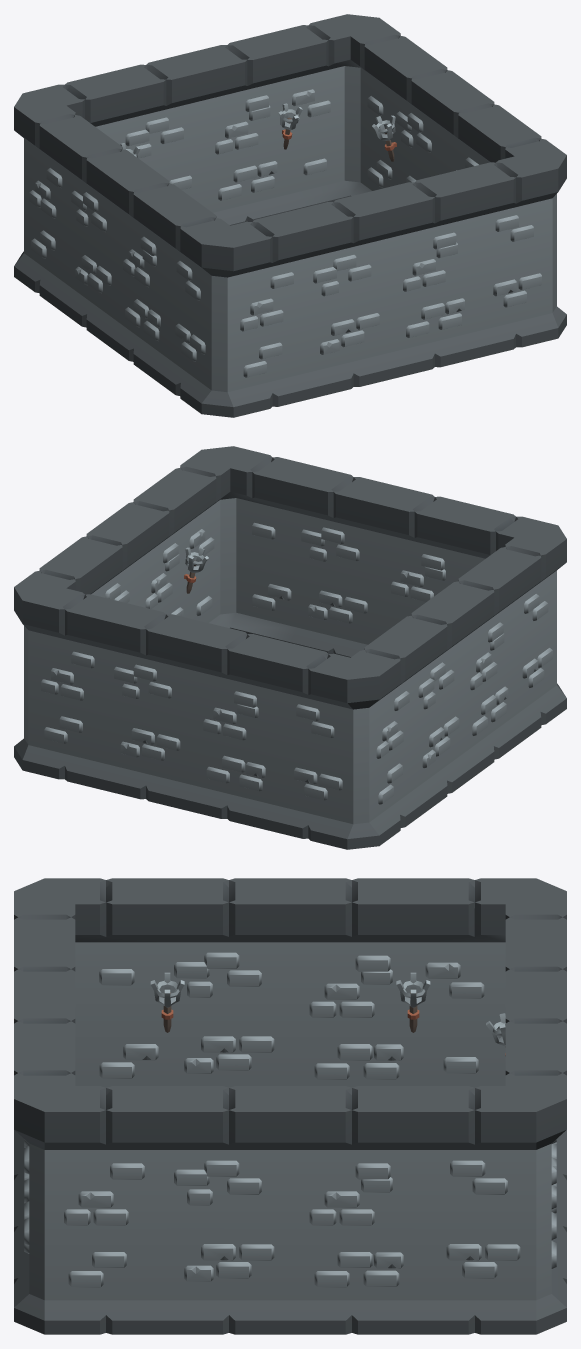
The model's file is modular_room.gltf.
3 views of the same model, one above another, from view 1: azimuth 30°, elevation 25°; view 2: azimuth 150°, elevation 25°; view 3: azimuth 270°, elevation 25° (orthographic). The views are drawn at different scales.
Visible parts, largest first — view 1: wall_corner, wall_doorway, wall_corner.002, wall_corner.001, wall, wall_doorway.001, wall_corner.003, wall_doorway.002, wall.001, wall.002, wall_doorway.003, wall.003 (+2 smaller); view 2: wall_corner.003, wall_corner.001, wall_doorway.001, wall_corner.002, wall.001, wall_doorway, wall_corner, wall_doorway.002, wall, wall.002, wall_doorway.003, wall.003 (+1 smaller); view 3: wall_corner.002, wall_corner.001, wall_doorway.003, wall.003, wall_doorway.002, wall.002, wall_corner, wall_corner.003, wall_doorway, wall_doorway.001, wall.001, torch_mounted.003 (+2 smaller).
Part boxes in pixels (box(x1,y1,x2,y2)): wall_corner: box(154, 200, 314, 417); wall_doorway: box(292, 171, 477, 397); wall_corner.002: box(266, 14, 425, 210); wall_corner.001: box(454, 121, 566, 358); wall: box(309, 219, 476, 386); wall_doorway.001: box(104, 34, 289, 221); wall_corner.003: box(14, 73, 127, 310); wall_doorway.002: box(61, 131, 194, 379); wall.001: box(121, 81, 288, 225); wall.002: box(61, 175, 164, 368); wall_doorway.003: box(385, 52, 519, 185); wall.003: box(396, 94, 487, 184); wall_corner.003: box(266, 632, 426, 849); wall_corner.001: box(155, 446, 314, 642); wall_doorway.001: box(103, 603, 288, 829); wall_corner.002: box(14, 553, 126, 790); wall.001: box(104, 650, 271, 818); wall_doorway: box(291, 466, 476, 653); wall_corner: box(453, 505, 566, 742); wall_doorway.002: box(386, 563, 519, 811); wall: box(292, 513, 459, 657); wall.002: box(416, 606, 518, 800); wall_doorway.003: box(61, 484, 195, 616); wall.003: box(92, 526, 184, 614); wall_corner.002: box(413, 1047, 566, 1334); wall_corner.001: box(14, 1047, 167, 1334); wall_doorway.003: box(167, 1086, 413, 1334); wall.003: box(167, 1150, 413, 1334); wall_doorway.002: box(167, 878, 413, 1085); wall.002: box(167, 942, 413, 1087); wall_corner: box(14, 878, 167, 1151); wall_corner.003: box(413, 878, 566, 1151); wall_doorway: box(14, 943, 75, 1255); wall_doorway.001: box(505, 943, 566, 1255); wall.001: box(551, 1142, 566, 1254); torch_mounted.003: box(150, 972, 184, 1032).
Bounding box in the file's own units: 9 × 4.1 × 9.
Materials: 5 (5 with a texture image).
